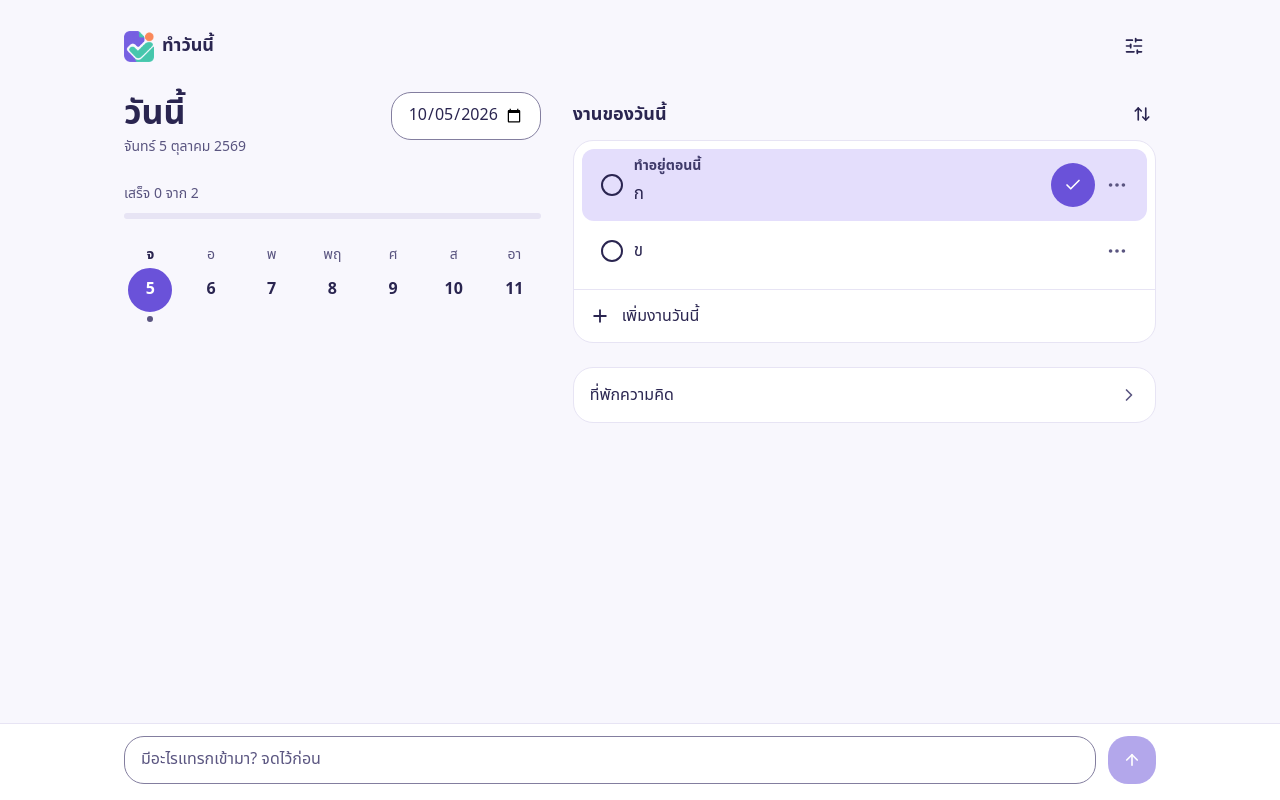
Test: DayPage (เฟส 2) › เปิดแผงตัวเลือกได้ทีละแถว
Click the button named "ตัวเลือกของ ก".
click(1117, 185)  # box 1095,163 -> 1139,207
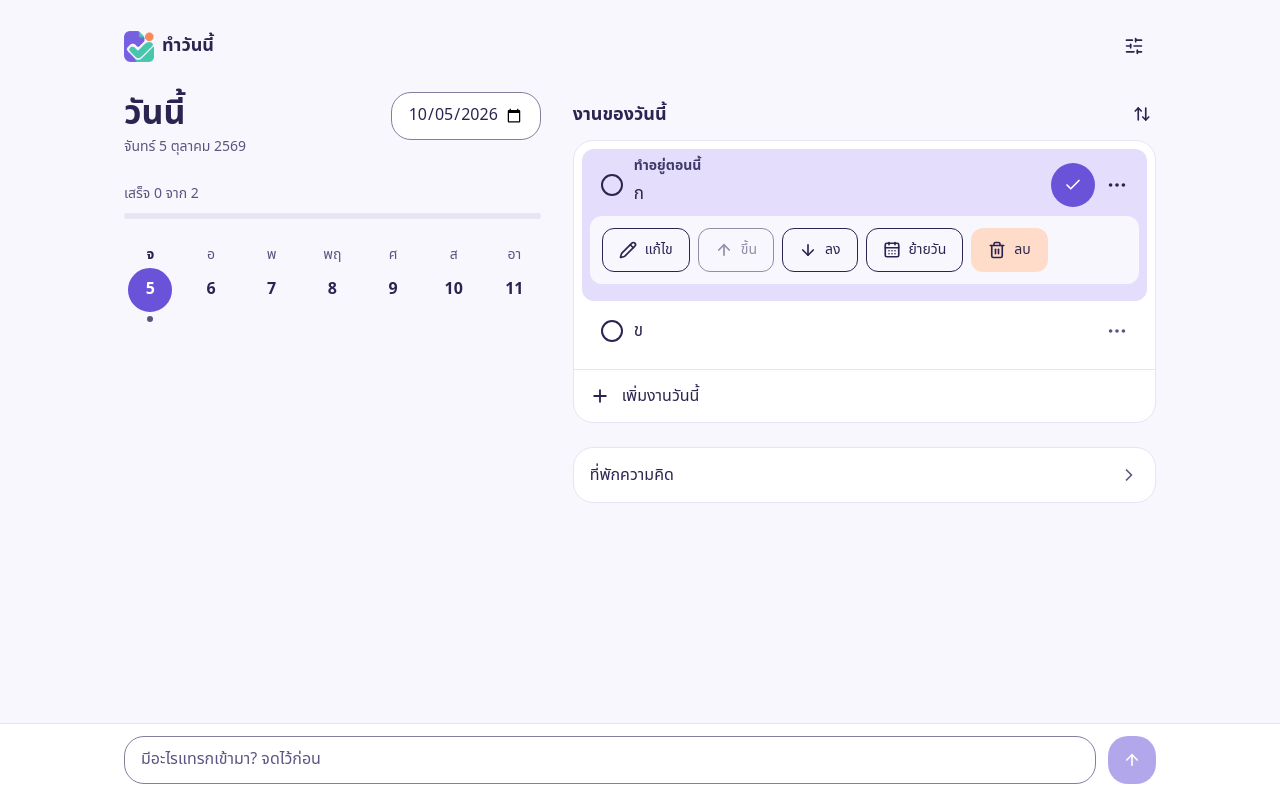
Click the button named "ตัวเลือกของ ข".
click(1117, 331)  # box 1095,309 -> 1139,353
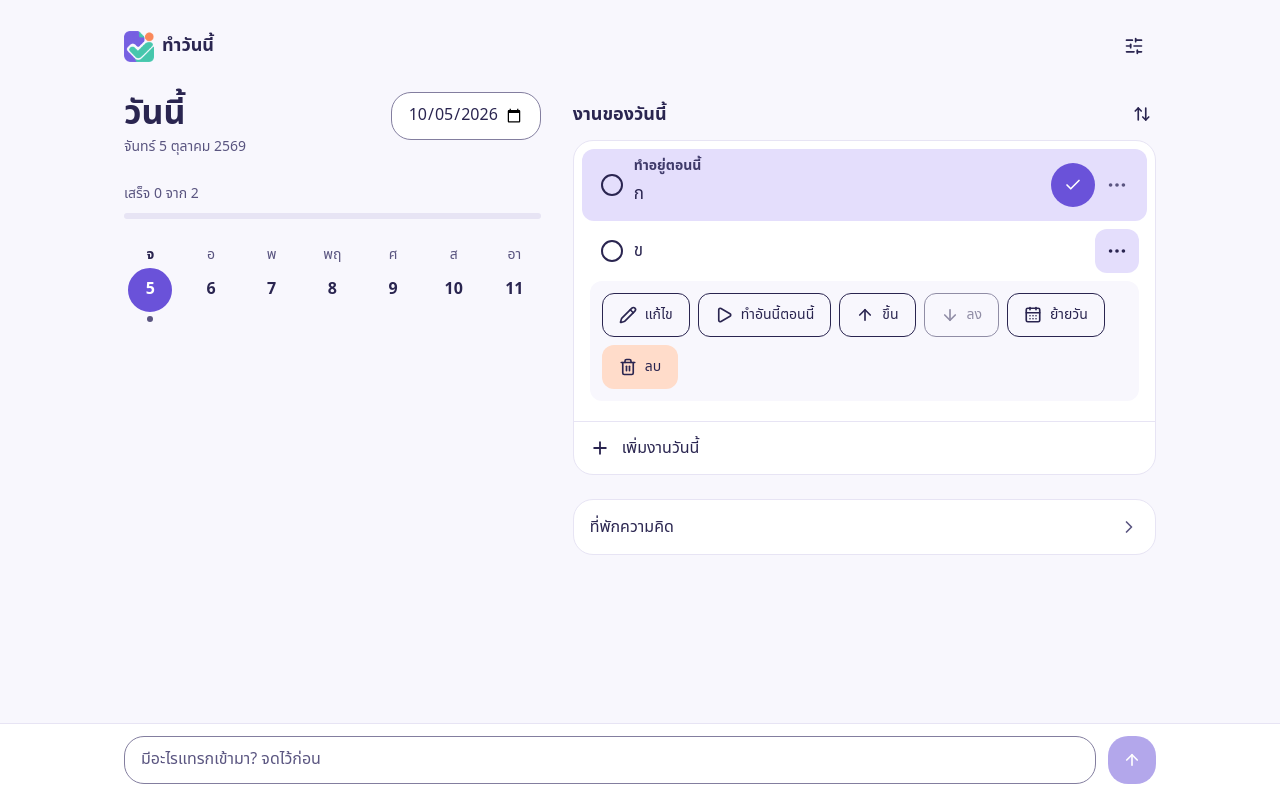
Expected: the button named "ตัวเลือกของ ข" is expanded, 1095,229 -> 1139,273
